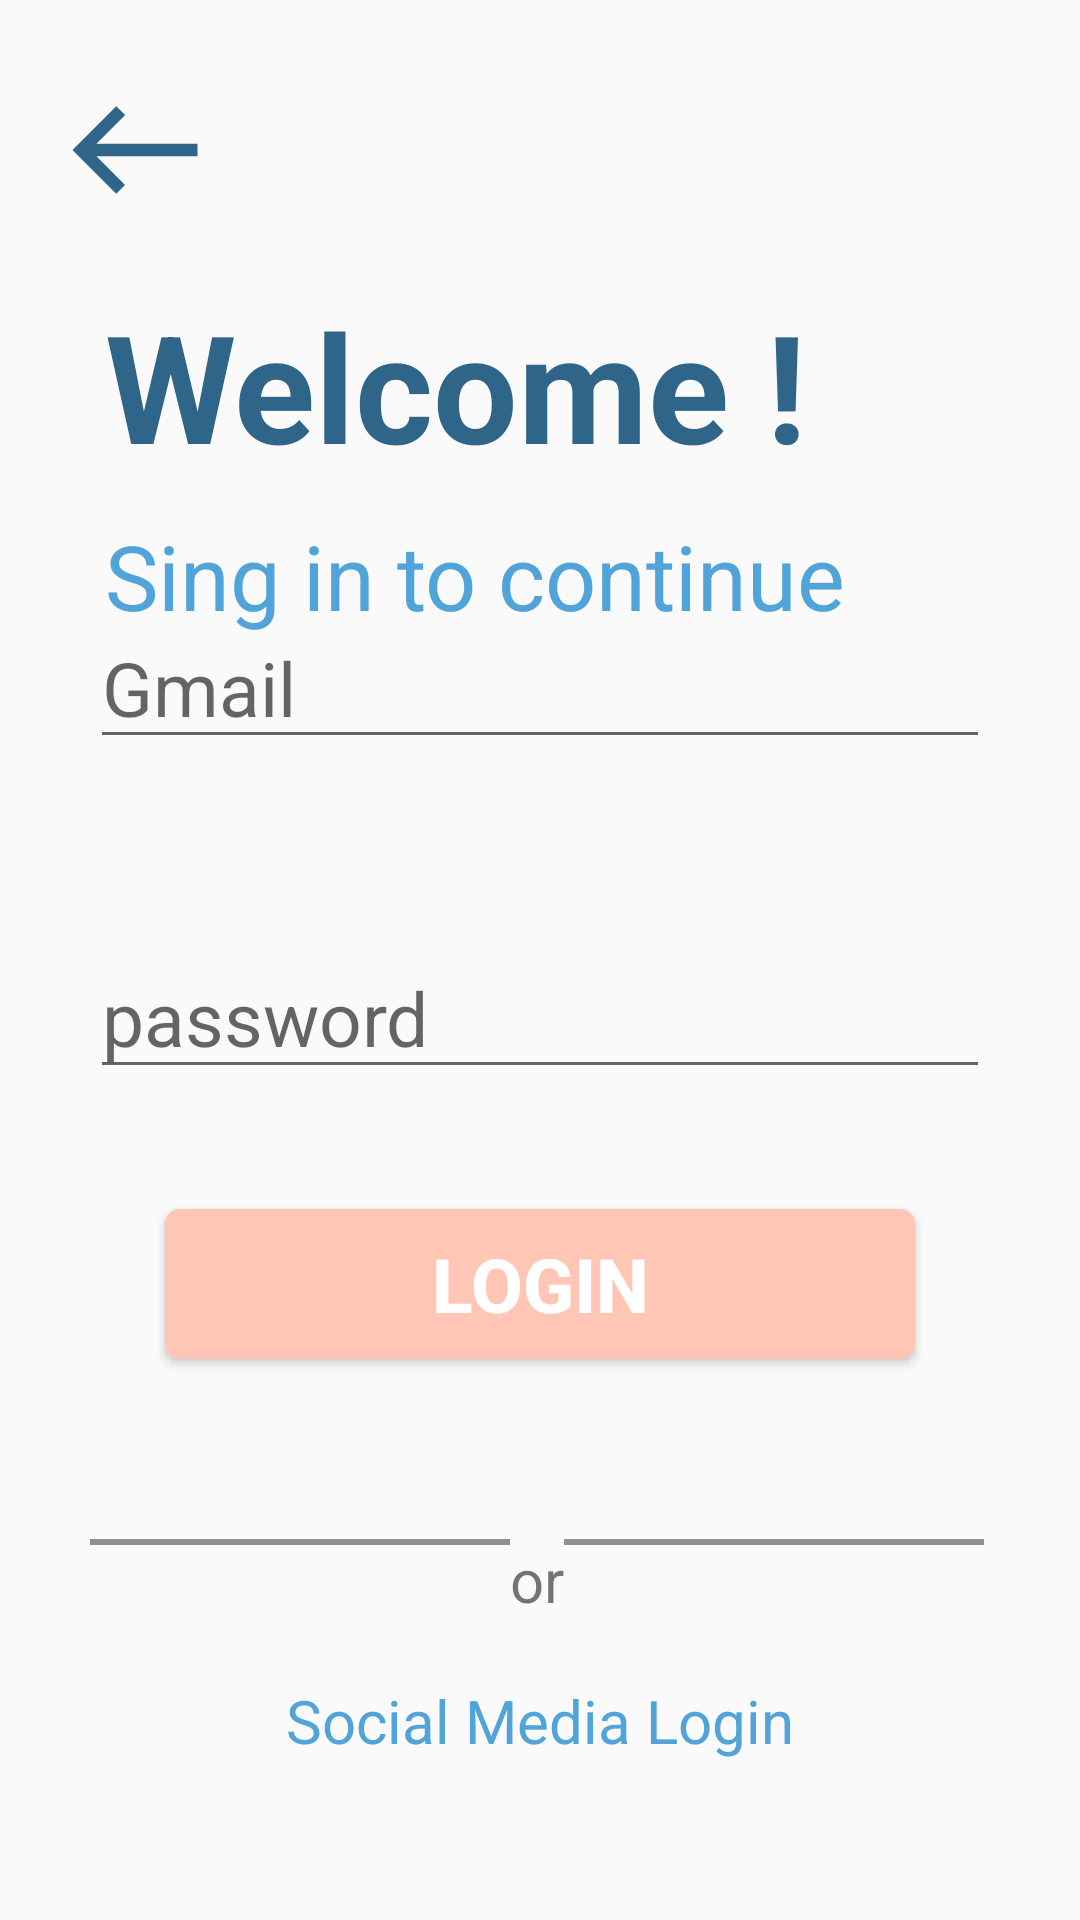

Screen size 1080px×1920px. Icon name, then its box in pixels as (left=x1, top=y1, right=x2, bottom=y2):
west: (left=72, top=106, right=198, bottom=194)
